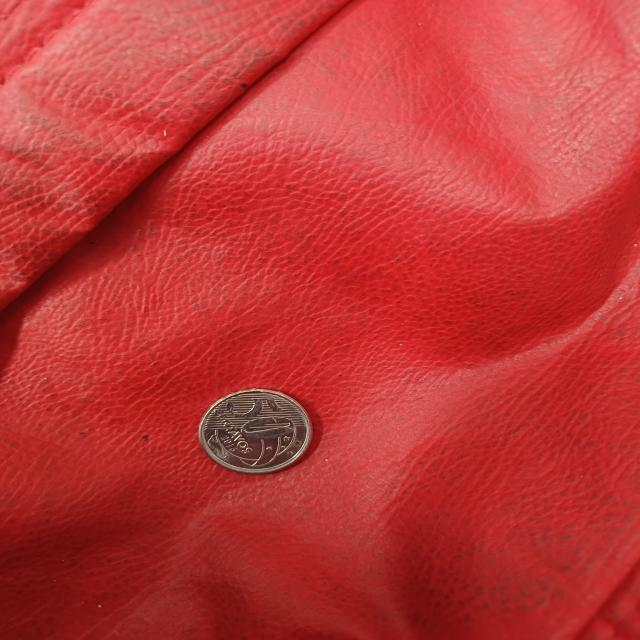50 cents: (197, 389, 315, 478)
